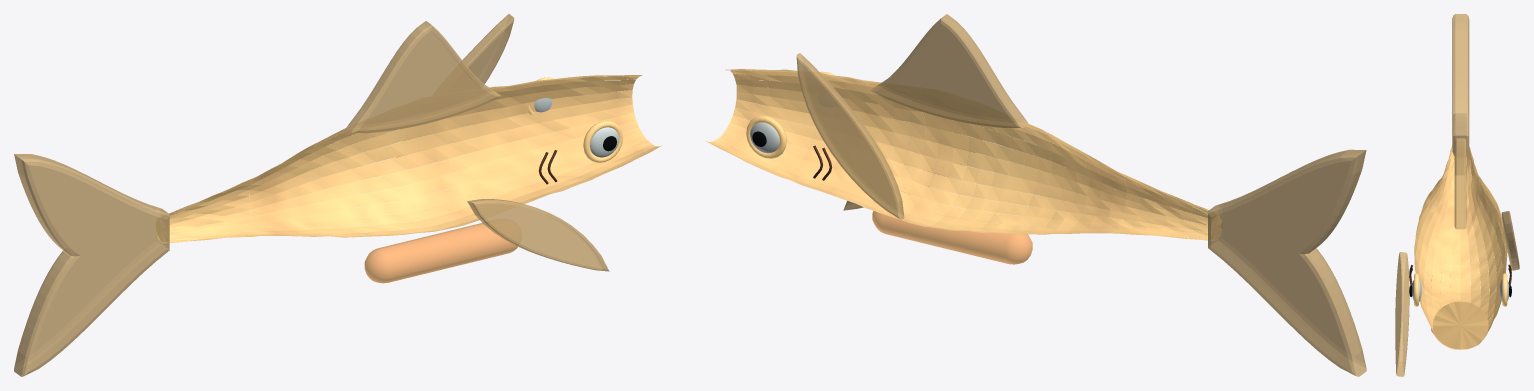
The model's file is ribbon-goby.glb.
3 renders of one model, left to right at view 1: azimuth 30°, elevation 25°; view 2: azimuth 150°, elevation 25°; view 3: azimuth 270°, elevation 25°, orthographic. The views are drawn at different scales.
Visible parts, largest first — view 1: body, tail_fin, dorsal_fin, pectoral_fin (×2), pelvic_fin, eye_socket, eye; view 2: body, tail_fin, dorsal_fin, pectoral_fin, pelvic_fin, eye_socket, eye; view 3: body, tail_fin, pectoral_fin (×2), dorsal_fin, eye_socket (×2).
Boxes of the visible parts, bbox=[...] form: body: bbox=[156, 75, 661, 243]; tail_fin: bbox=[14, 154, 169, 376]; dorsal_fin: bbox=[346, 21, 500, 133]; pectoral_fin (×2): bbox=[396, 14, 609, 271]; pelvic_fin: bbox=[364, 223, 517, 283]; eye_socket: bbox=[583, 120, 622, 162]; eye: bbox=[590, 127, 619, 157]; body: bbox=[706, 69, 1221, 240]; tail_fin: bbox=[1208, 149, 1366, 376]; dorsal_fin: bbox=[870, 14, 1028, 128]; pectoral_fin: bbox=[796, 53, 904, 219]; pelvic_fin: bbox=[872, 207, 1032, 264]; eye_socket: bbox=[746, 116, 786, 158]; eye: bbox=[750, 122, 779, 153]; body: bbox=[1414, 145, 1507, 349]; tail_fin: bbox=[1452, 14, 1469, 167]; pectoral_fin (×2): bbox=[1395, 211, 1519, 376]; dorsal_fin: bbox=[1454, 138, 1466, 229]; eye_socket (×2): bbox=[1414, 273, 1507, 306].
Bounding box in the file's own units: 3.23 × 1.23 × 0.7357.
